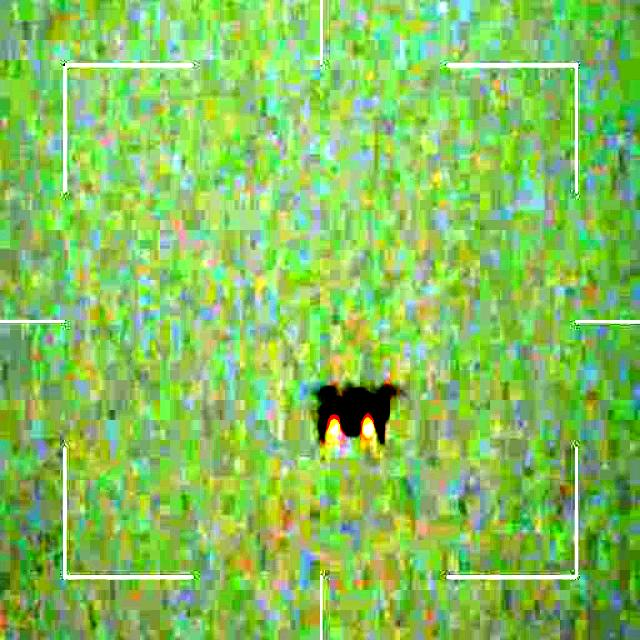bird: (315, 382, 395, 446)
